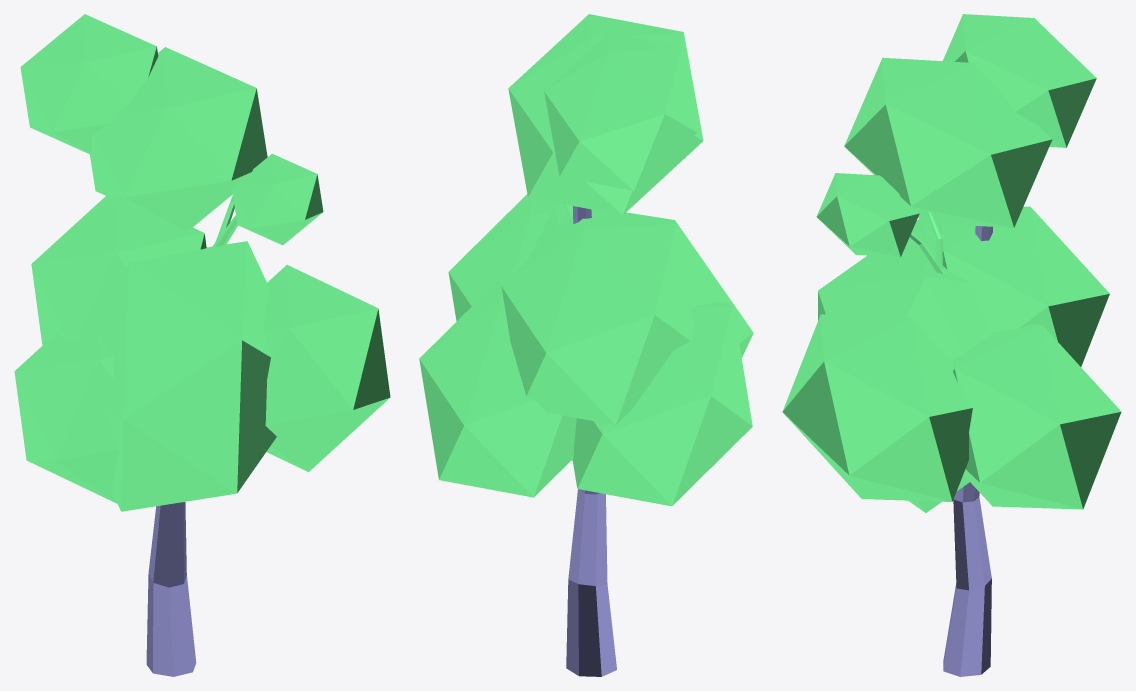
Rendered from SM_Tree_11.fbx.
3 views of the same model, side by side, from view 1: azimuth 30°, elevation 25°; view 2: azimuth 150°, elevation 25°; view 3: azimuth 270°, elevation 25° (orthographic). The views are drawn at different scales.
Parts seen in each view (by area): view 1: Cylinder.019; view 2: Cylinder.019; view 3: Cylinder.019.
Boxes of the visible parts, x1=… form: Cylinder.019: x1=14, y1=14, x2=390, y2=676; Cylinder.019: x1=419, y1=14, x2=753, y2=676; Cylinder.019: x1=782, y1=14, x2=1121, y2=676.
Size of the model in its own units: 270 by 556 by 274.
